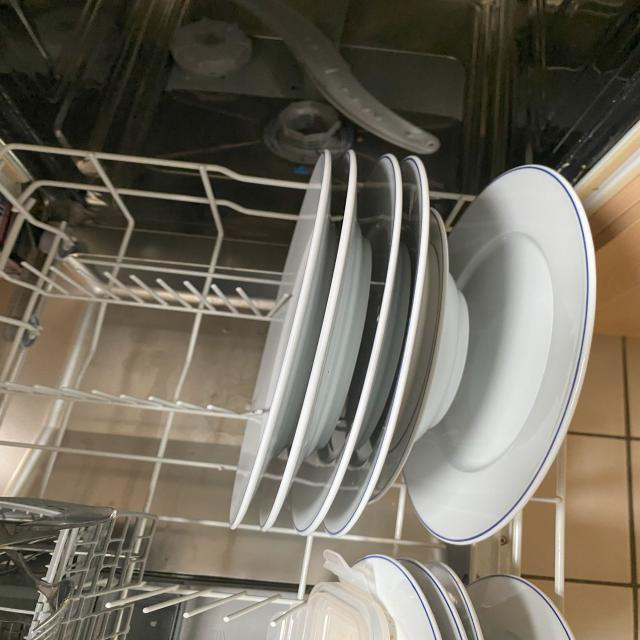empty_slot: (7, 146, 229, 517)
